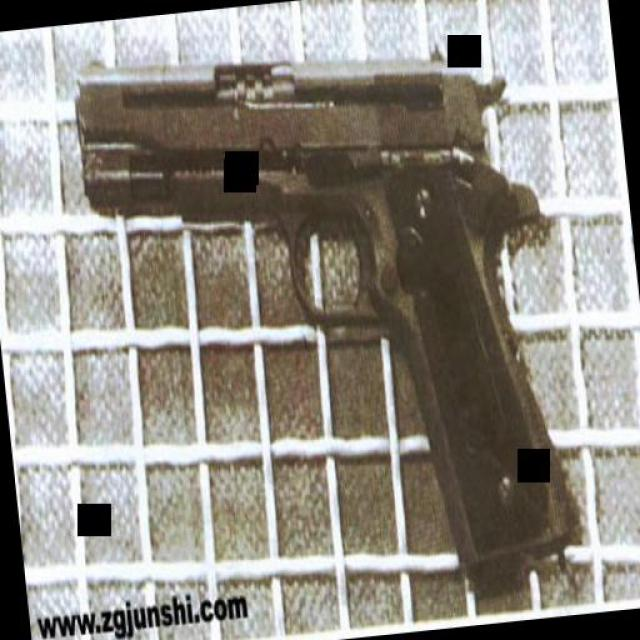gun: (65, 12, 584, 614)
